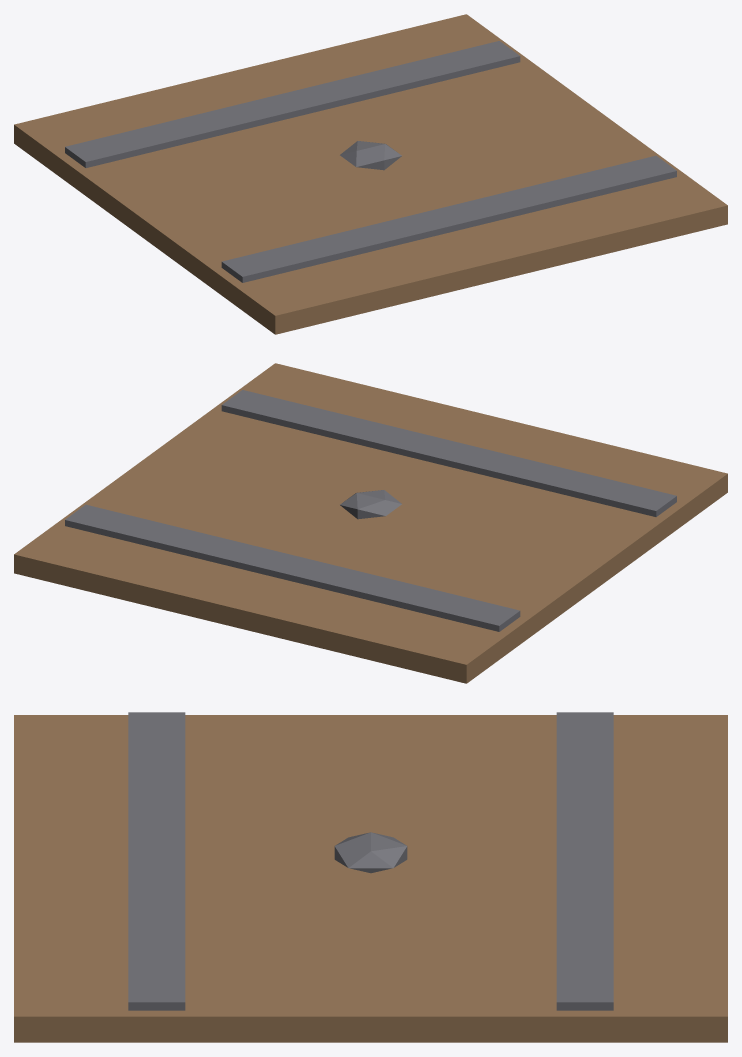
File: hatch.glb
3 views of the same model, one above another, from view 1: azimuth 30°, elevation 25°; view 2: azimuth 150°, elevation 25°; view 3: azimuth 270°, elevation 25° (orthographic). The views are drawn at different scales.
Parts seen in each view (by area): view 1: hatch; view 2: hatch; view 3: hatch.
Part boxes in pixels (x1,y1,x2,y2): hatch: [14, 14, 727, 334]; hatch: [14, 363, 727, 683]; hatch: [14, 712, 727, 1042].
Bounding box in the file's own units: 1 × 0.077 × 1.
